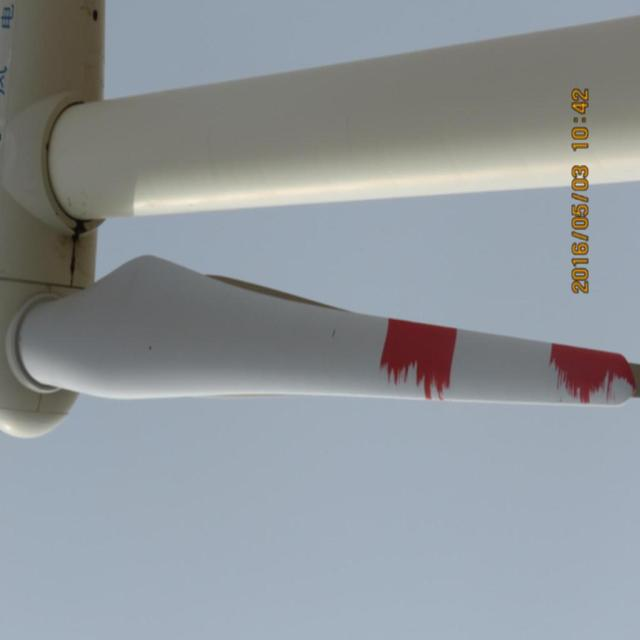corrosion: (380, 316, 462, 400)
surface_peeling: (546, 341, 636, 408)
